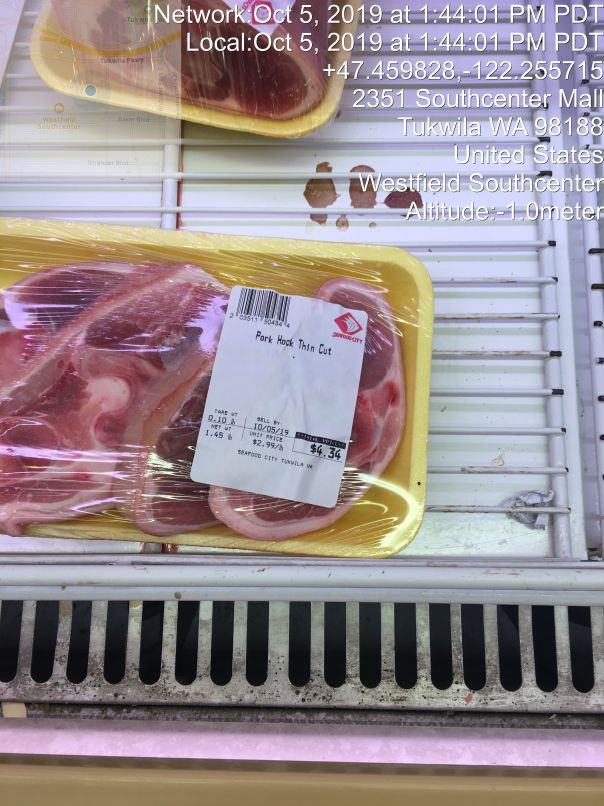Label: (190, 273, 375, 519)
Location: (347, 82, 604, 195)
Pork: (1, 196, 439, 566), (3, 1, 403, 151)
Time: (144, 1, 604, 60)
